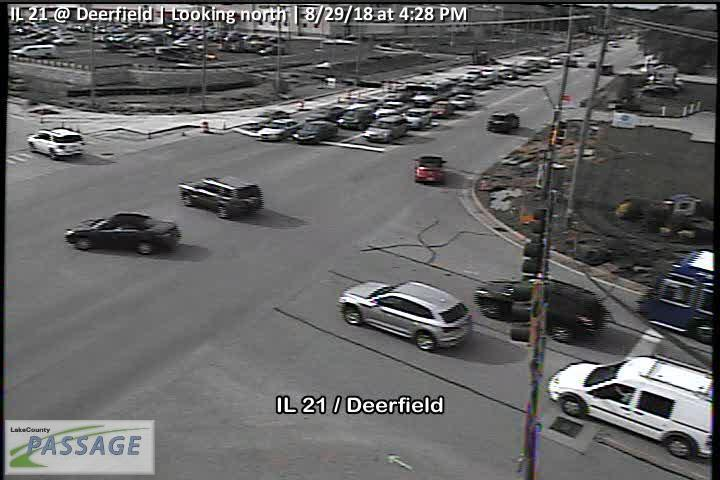SUV: (548, 356, 714, 461), (337, 281, 472, 352), (177, 174, 262, 220), (27, 129, 83, 159), (364, 115, 408, 142)
Sedan: (476, 277, 601, 343), (64, 211, 180, 254), (255, 116, 297, 143), (293, 119, 338, 144), (415, 154, 447, 183), (487, 112, 520, 132), (341, 108, 370, 130), (431, 101, 454, 116)
